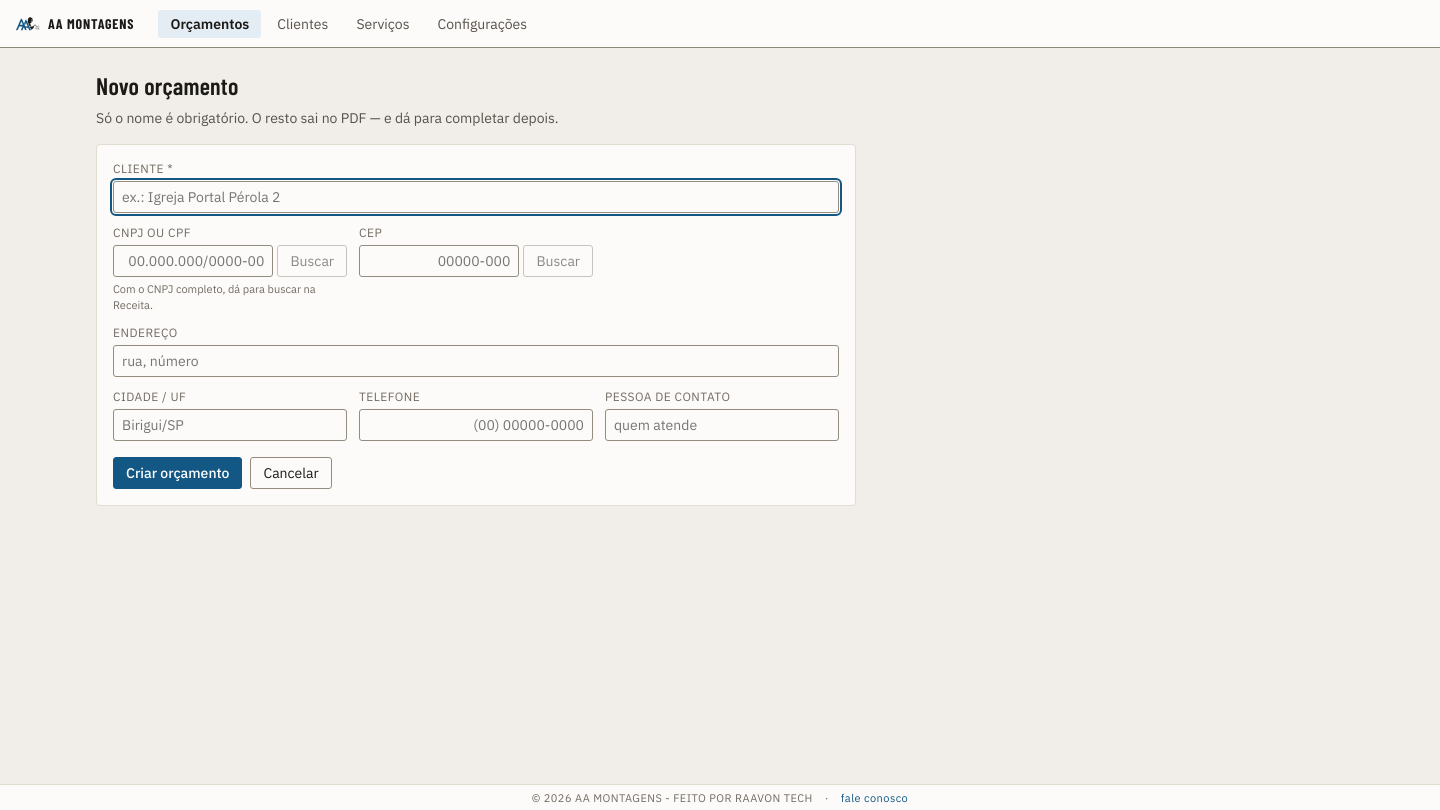
Test: novo orçamento: cadastro do cliente › exige o nome
The image size is (1440, 810).
Expected: the heading "Novo orçamento" is shown, [96, 71, 238, 100]
Click the button "Criar orçamento".
click(178, 473)  # box [113, 457, 242, 489]
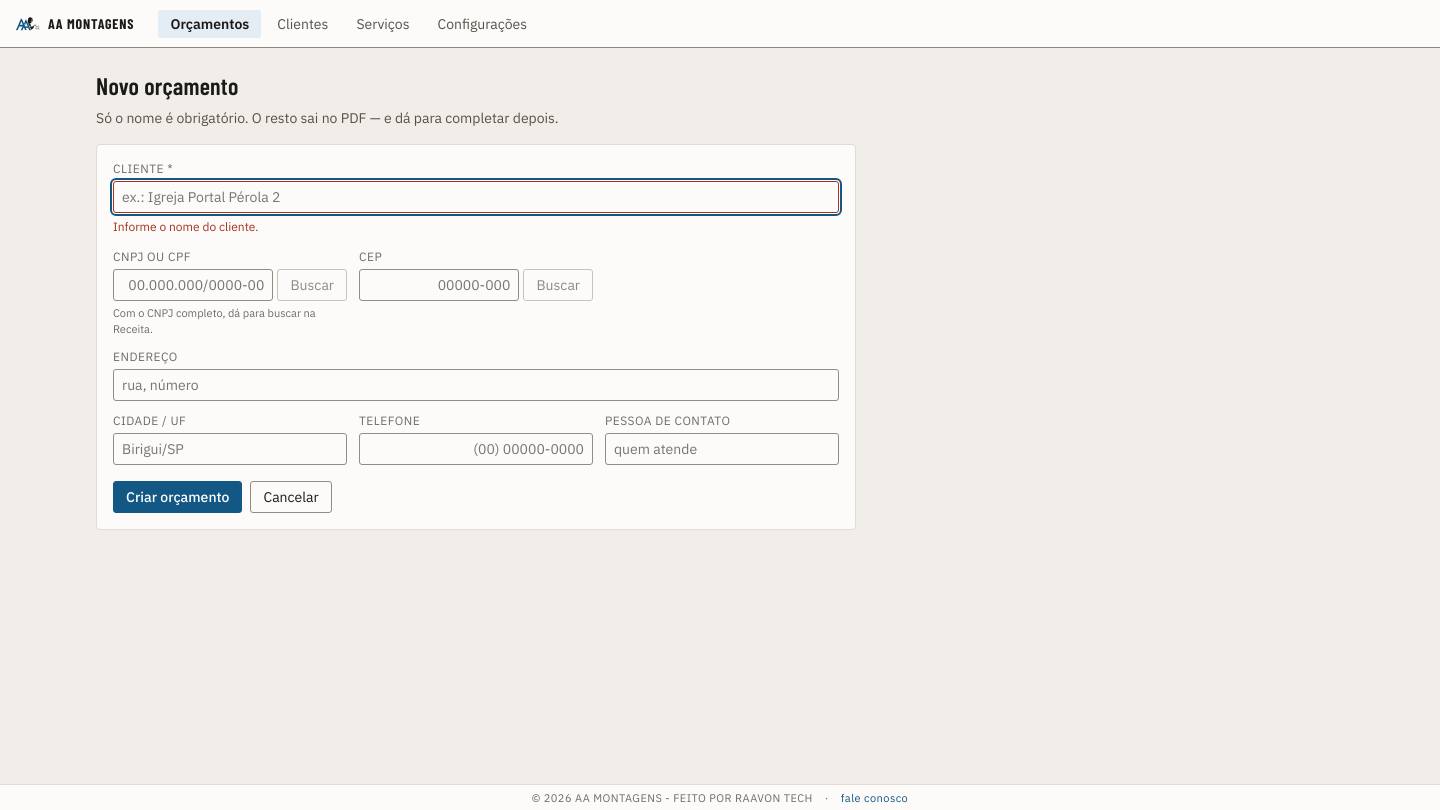
Expected: the text "Informe o nome do cliente." is shown, [113, 219, 258, 234]
